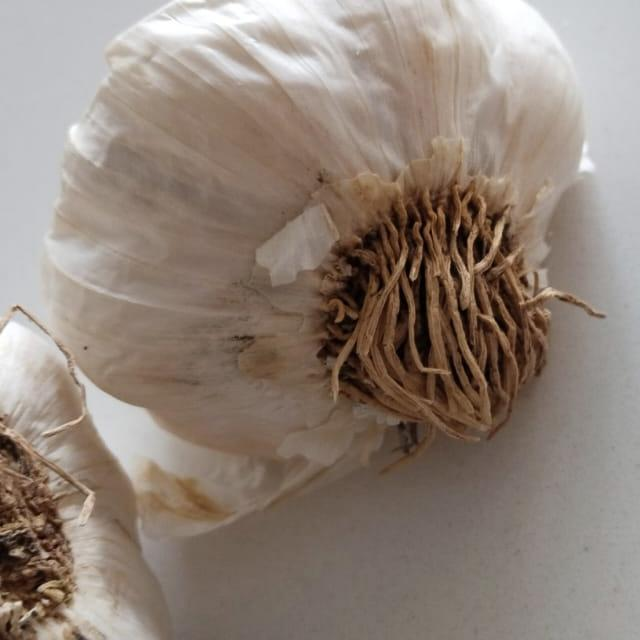garlic: (6, 0, 640, 501), (0, 236, 250, 640)
